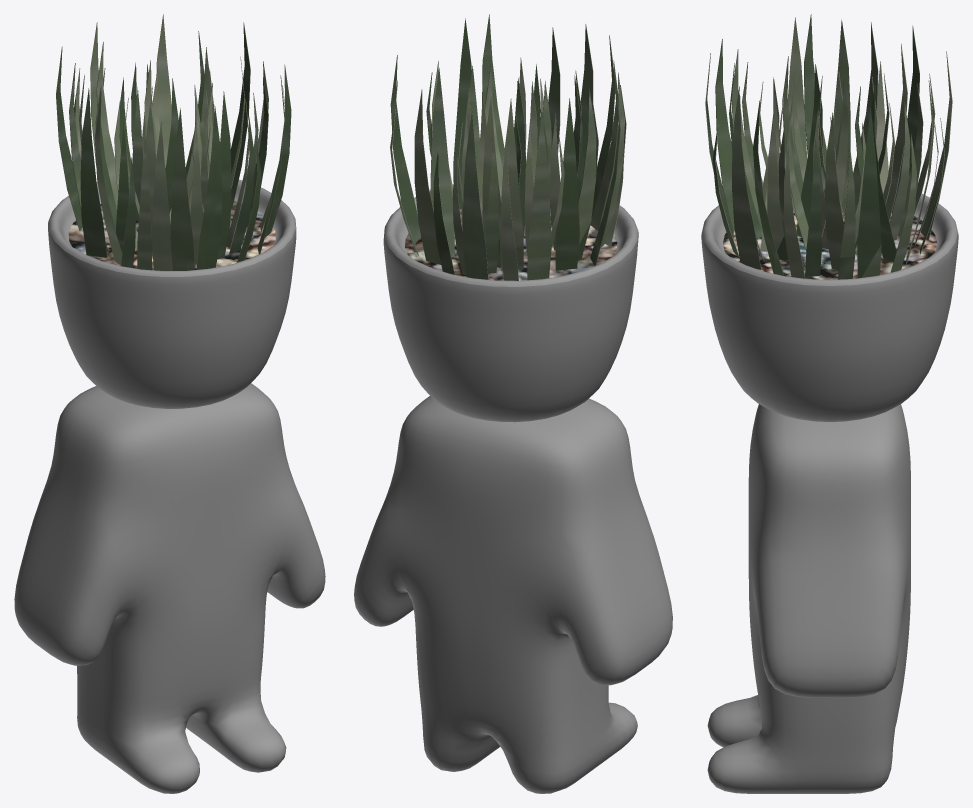
Rendered from Decor_Pot01.FBX.
3 renders of one model, left to right at view 1: azimuth 30°, elevation 25°; view 2: azimuth 150°, elevation 25°; view 3: azimuth 270°, elevation 25°, orthographic. The views are drawn at different scales.
Parts seen in each view (by area): view 1: Decor_Pot01A; view 2: Decor_Pot01A; view 3: Decor_Pot01A.
Boxes of the visible parts, x1,y1,x2,y2 form: Decor_Pot01A: (14,14,325,793); Decor_Pot01A: (354,14,672,793); Decor_Pot01A: (701,14,958,793).
Size of the model in its own units: 79.59 by 195 by 64.01.
